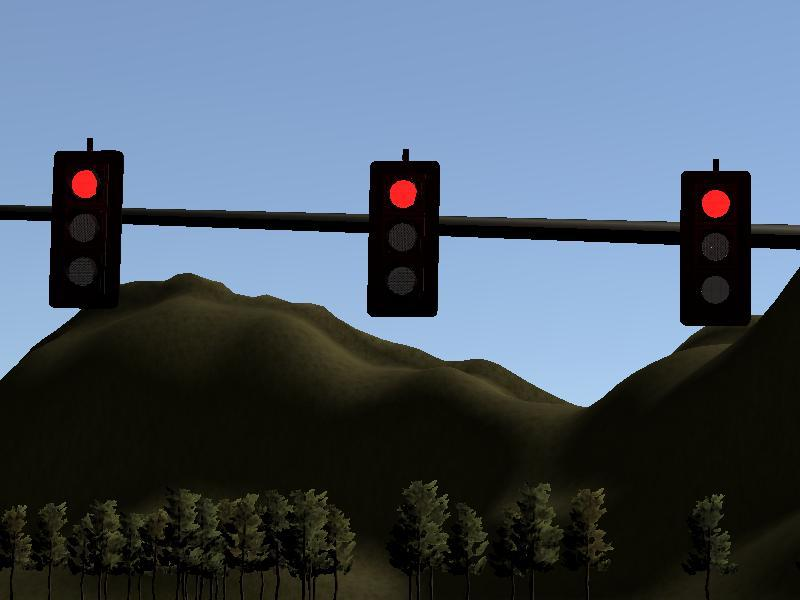Red: (370, 161, 436, 314), (54, 152, 117, 306), (684, 176, 750, 323)
